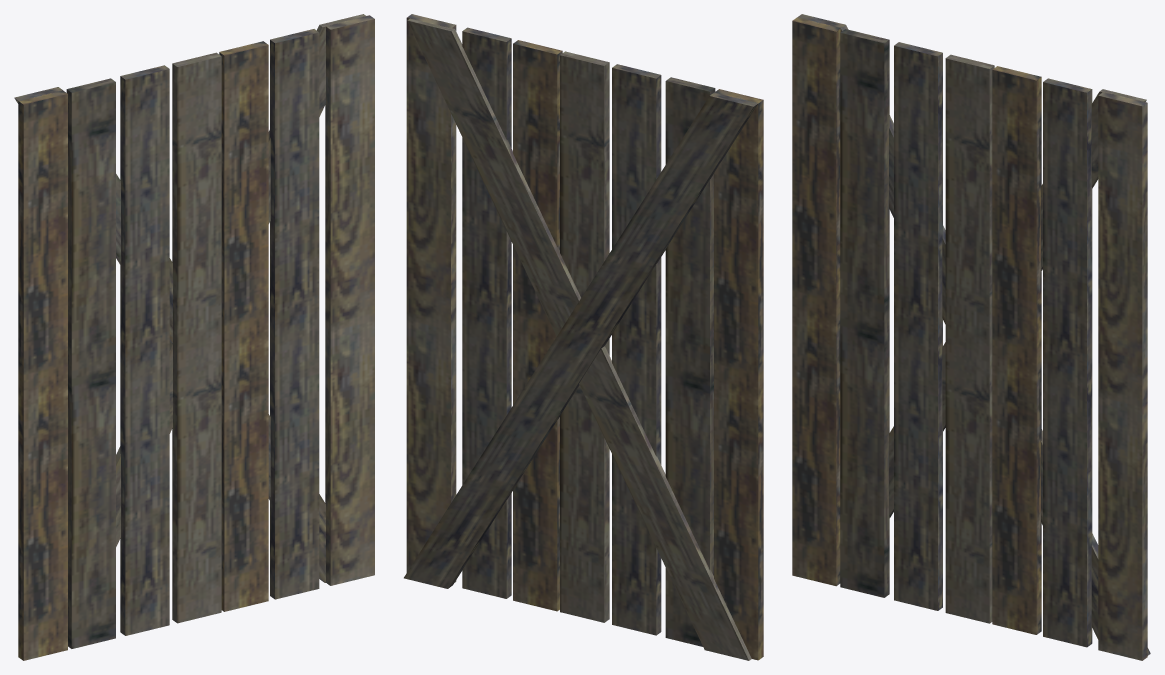
File: oldwoodpanel.obj
3 renders of one model, left to right at view 1: azimuth 30°, elevation 25°; view 2: azimuth 150°, elevation 25°; view 3: azimuth 330°, elevation 25°, orthographic.
Visible parts, largest first — view 1: oldwoodpanel; view 2: oldwoodpanel; view 3: oldwoodpanel.
Part boxes in pixels (x1,y1,x2,y2): oldwoodpanel: (14, 14, 374, 660); oldwoodpanel: (404, 14, 763, 660); oldwoodpanel: (792, 14, 1150, 660).
Size of the model in its own units: 1.98 by 3 by 0.0934.
